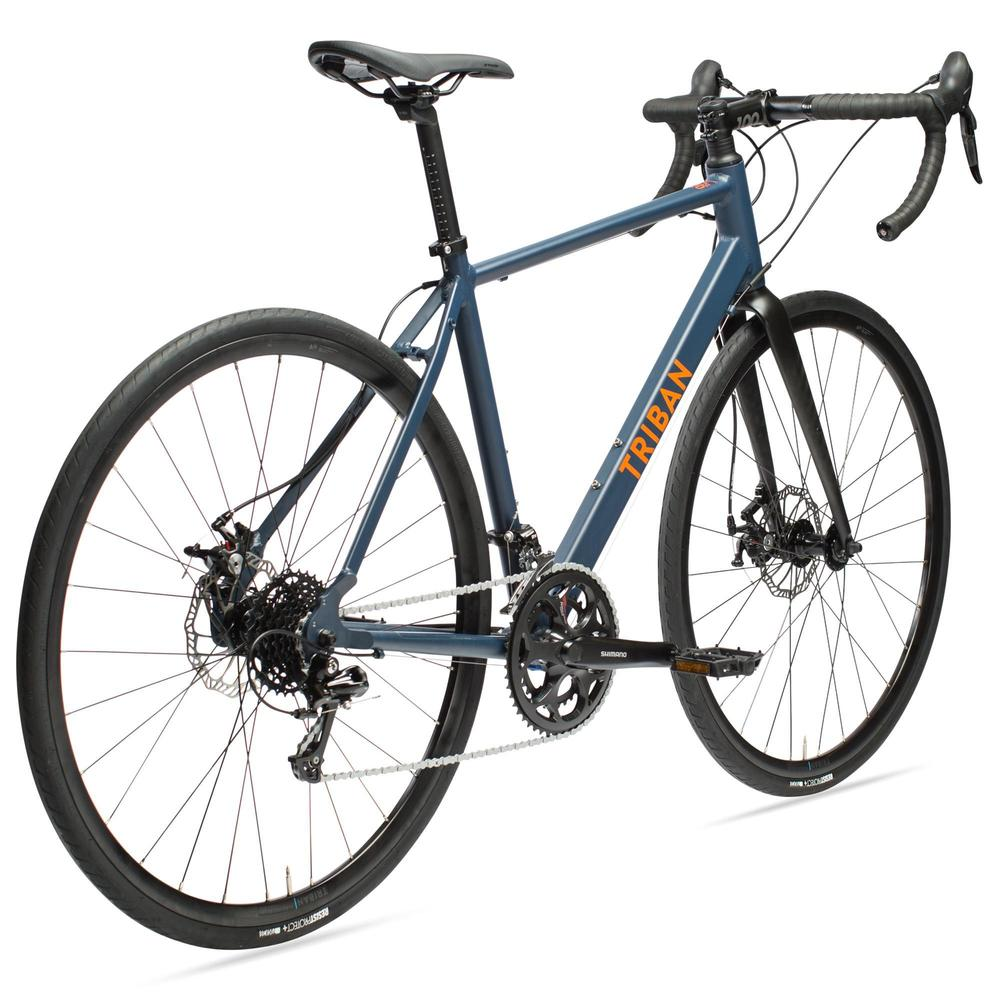RoadBike: (24, 42, 978, 928)
